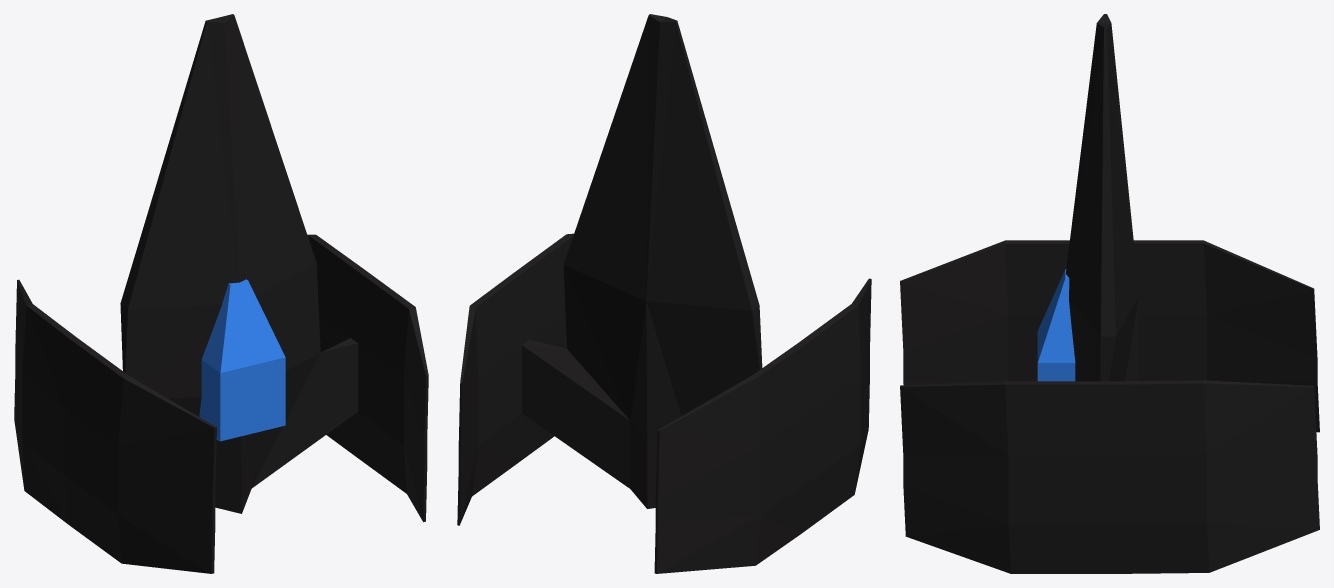
Rendered from spaceship.obj.
3 views of the same model, side by side, from view 1: azimuth 30°, elevation 25°; view 2: azimuth 150°, elevation 25°; view 3: azimuth 270°, elevation 25° (orthographic).
Parts seen in each view (by area): view 1: Cube, Cube.001; view 2: Cube; view 3: Cube, Cube.001.
Part boxes in pixels (x1,y1,x2,y2): Cube: [14, 14, 428, 573]; Cube.001: [199, 279, 285, 441]; Cube: [457, 14, 871, 573]; Cube: [900, 14, 1319, 573]; Cube.001: [1037, 269, 1075, 381].
Size of the model in its own units: 2.76 by 4.22 by 3.31.
